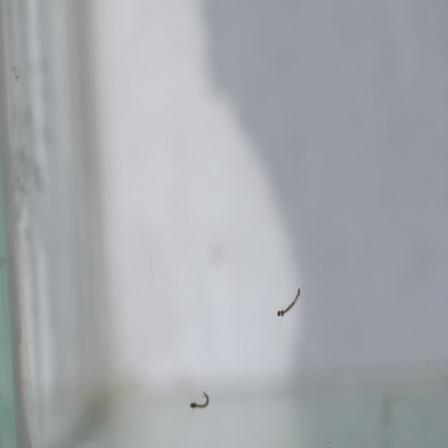Jentik-Nyamuk: (275, 284, 301, 323), (187, 387, 213, 415)
